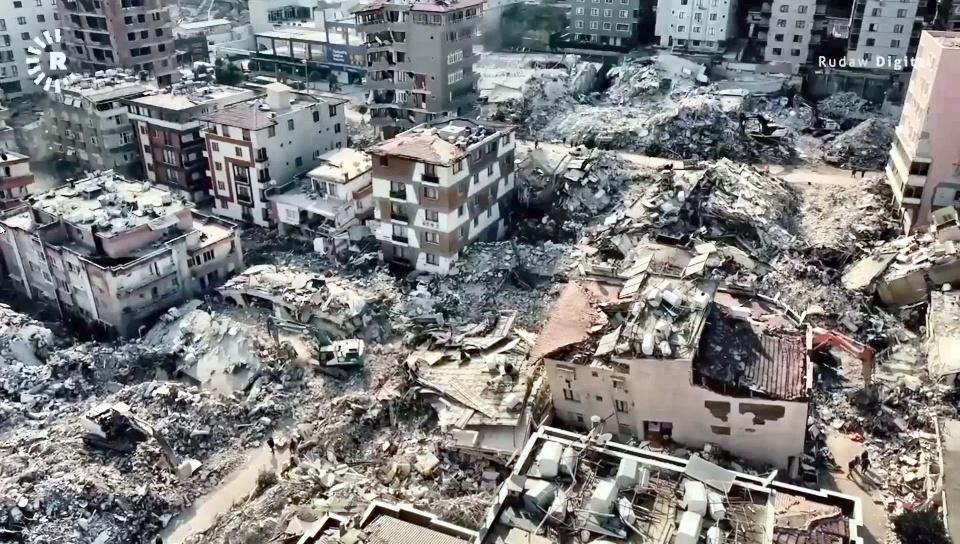kapali: (805, 172, 947, 543)
